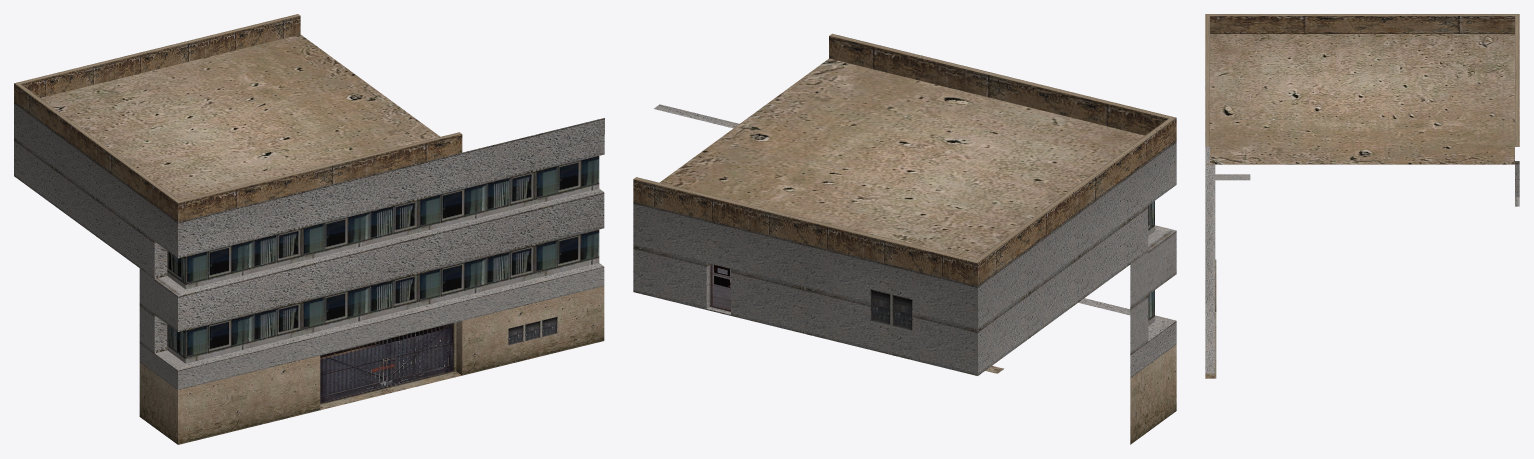
The model's file is M11Z1_TownWall06.glb.
3 views of the same model, side by side, from view 1: azimuth 30°, elevation 25°; view 2: azimuth 150°, elevation 25°; view 3: azimuth 270°, elevation 25° (orthographic). The views are drawn at different scales.
Parts seen in each view (by area): view 1: M11Z1_TOWNWALL06; view 2: M11Z1_TOWNWALL06; view 3: M11Z1_TOWNWALL06.
Part boxes in pixels (<box>): M11Z1_TOWNWALL06: <box>14,14,604,444</box>; M11Z1_TOWNWALL06: <box>633,33,1176,444</box>; M11Z1_TOWNWALL06: <box>1205,14,1519,378</box>.
Bounding box in the file's own units: 24.04 × 13 × 16.
Materials: 8 (8 with a texture image).
